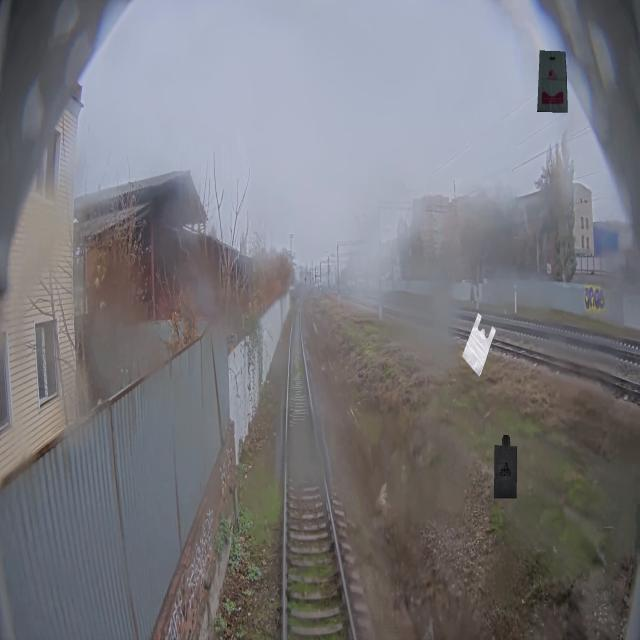plastic bag: (462, 313, 496, 377), (537, 50, 567, 114), (493, 434, 518, 498)
